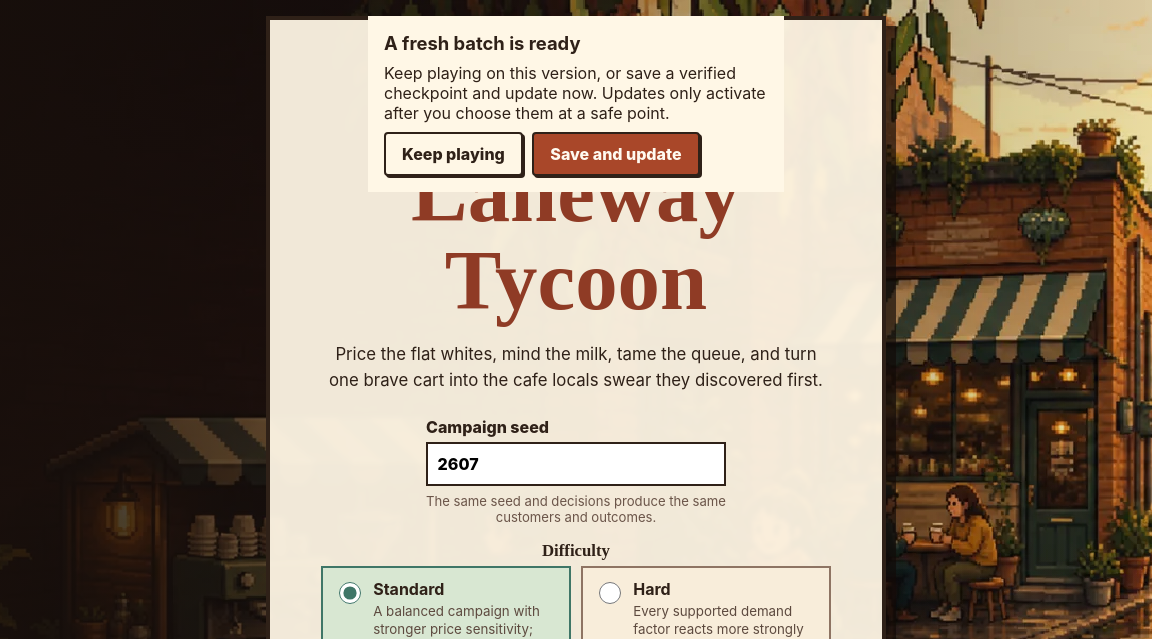
Scenario: safe PWA update prompt › blocks activation when browser storage cannot verify the checkpoint
Click the button "Save and update": coordinates (616, 154) top-left (532, 132), bottom-right (700, 176)
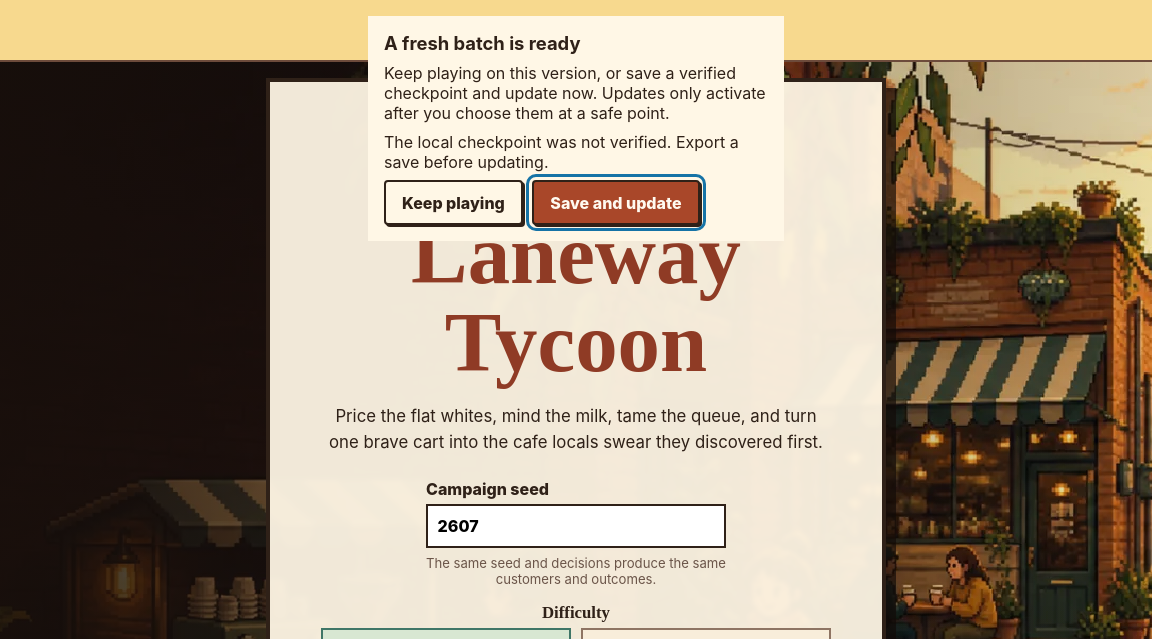
Expected: the message "The local checkpoint was not verified. Export a save before updating." is shown, top-left (384, 132), bottom-right (768, 172)
